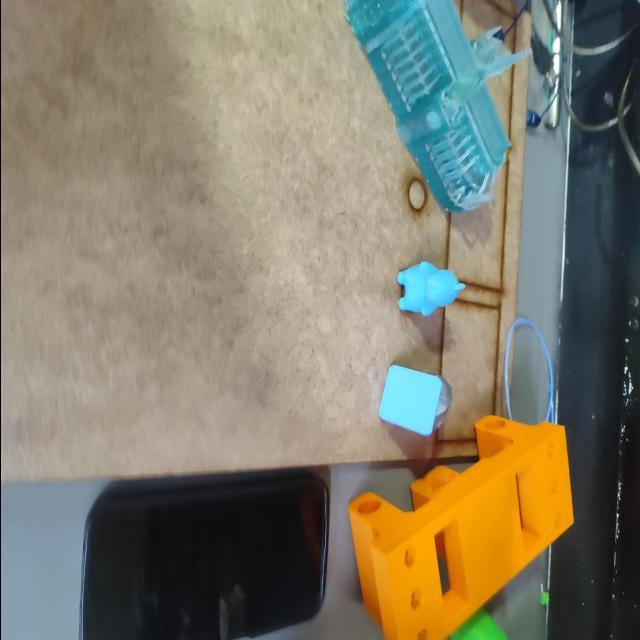DINO: (388, 245, 470, 325)
